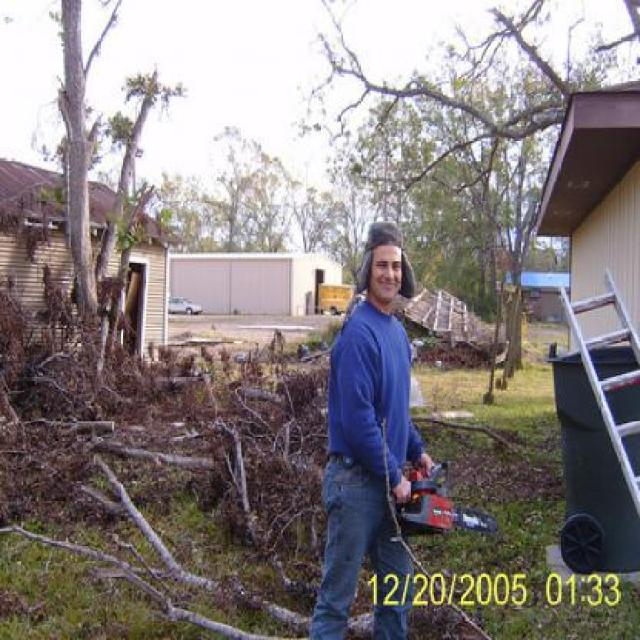Chainsaw: (394, 459, 501, 539)
